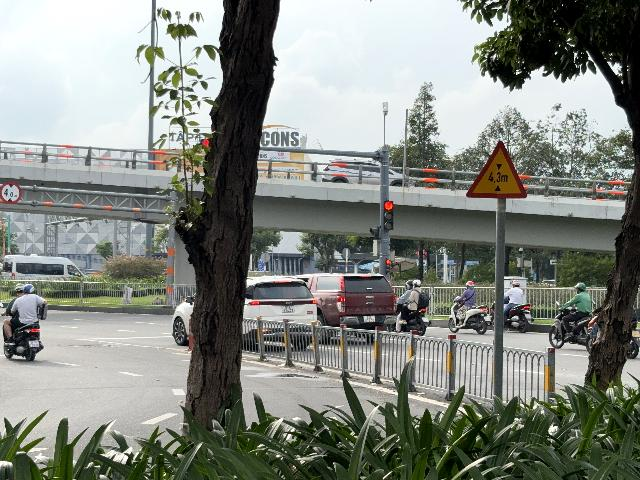chieu-cao-tinh-khong-thuc-te: (467, 140, 527, 199)
